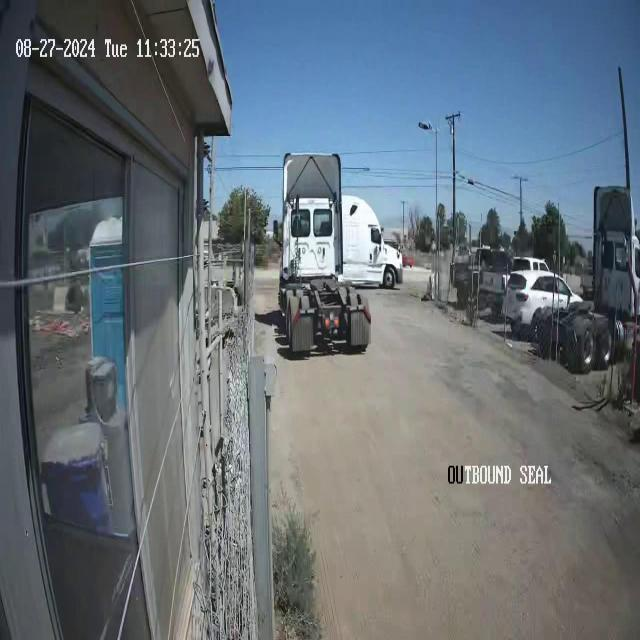TRUCK_OUT: (277, 151, 371, 355)
